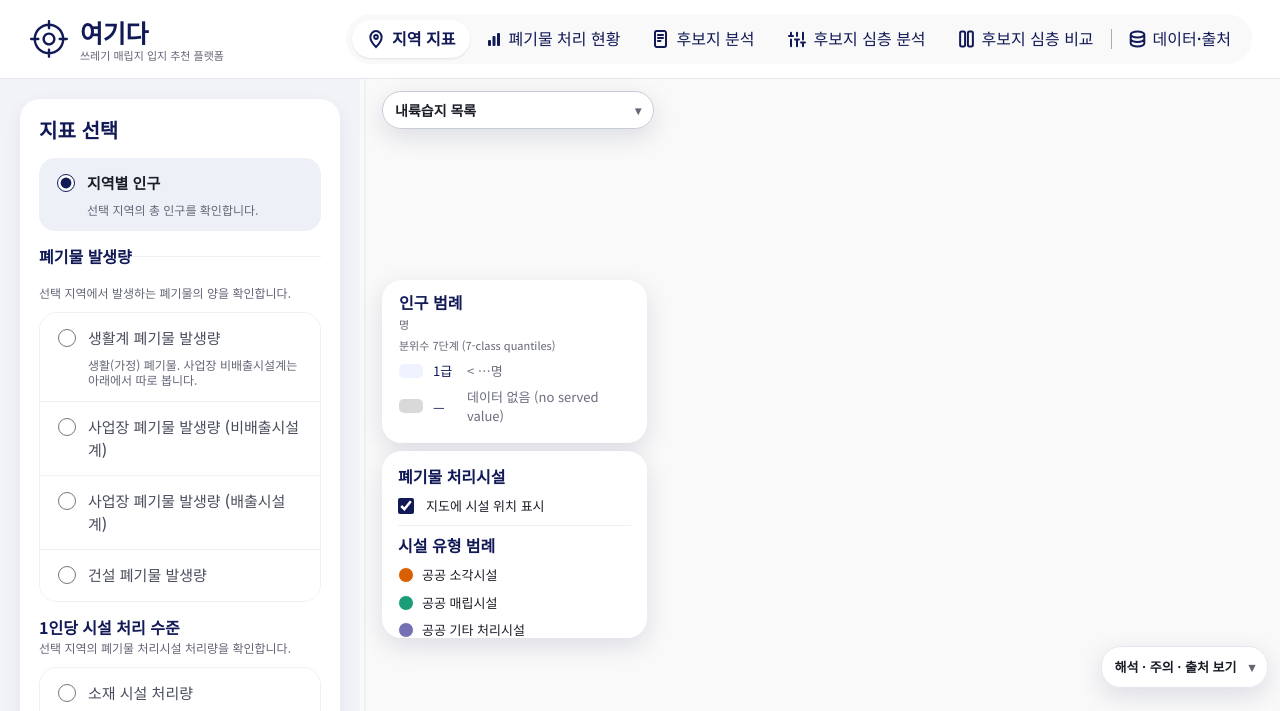
Scenario: ① 분석 범위 — the four scopes › sends NO region parameter for 수도권 전체
Click the button with test id "mode-suitability" at (856, 39), box top-left (772, 20), bottom-right (941, 58)
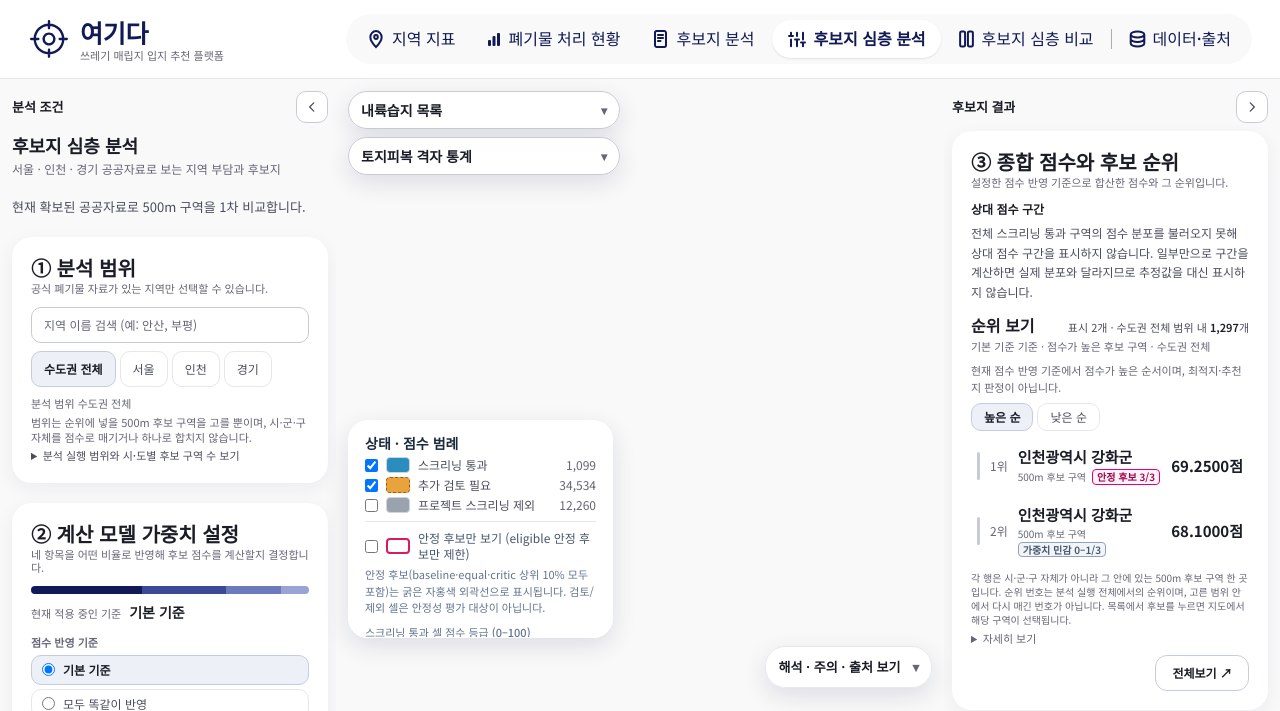
Check: the element with test id "candidate-ranking-counts" is shown, box top-left (1068, 319), bottom-right (1249, 336)
